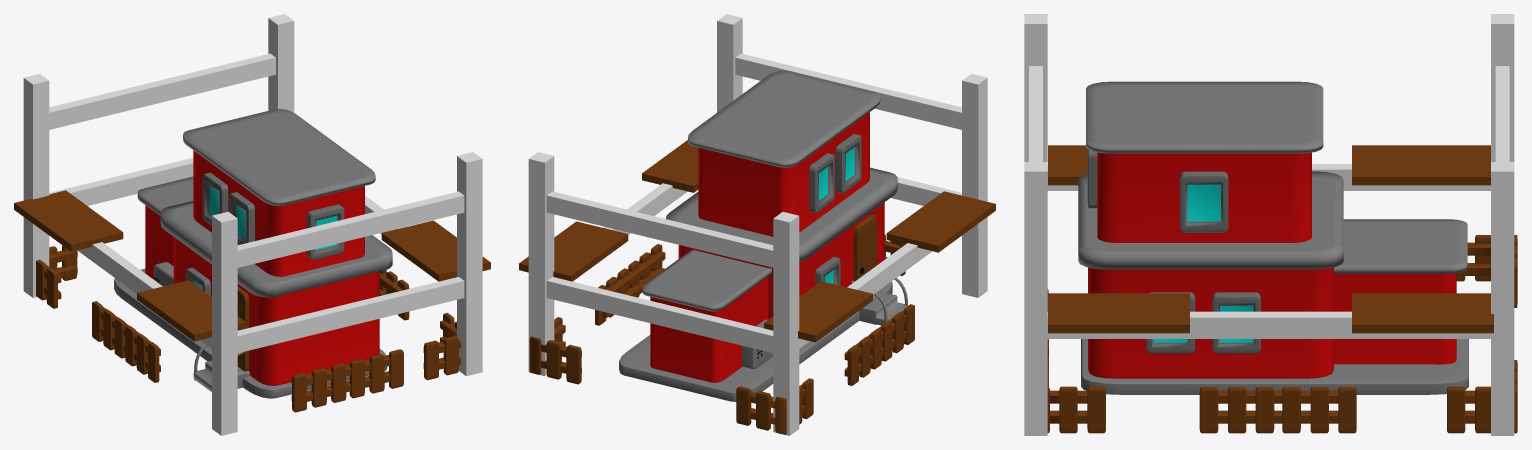
The model's file is G_Building_House.fbx.
3 views of the same model, side by side, from view 1: azimuth 30°, elevation 25°; view 2: azimuth 150°, elevation 25°; view 3: azimuth 270°, elevation 25° (orthographic). The views are drawn at different scales.
Parts seen in each view (by area): view 1: G_Building_House, G_Construction; view 2: G_Building_House, G_Construction; view 3: G_Building_House, G_Construction.
Boxes of the visible parts, bbox=[...] form: G_Building_House: bbox=[36, 108, 460, 412]; G_Construction: bbox=[14, 14, 490, 435]; G_Building_House: bbox=[529, 70, 914, 434]; G_Construction: bbox=[519, 14, 995, 435]; G_Building_House: bbox=[1047, 81, 1517, 433]; G_Construction: bbox=[1024, 14, 1514, 435].
Size of the model in its own units: 727 by 503 by 846.
